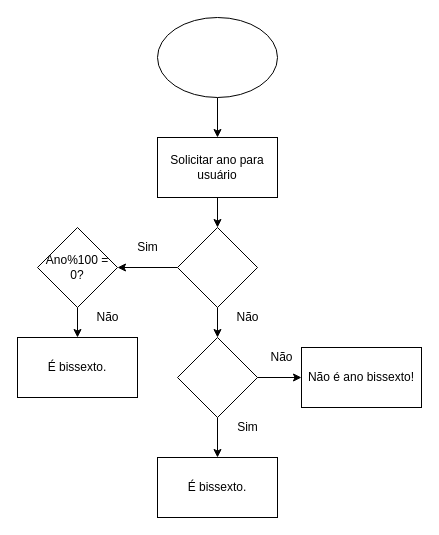
Image size: 439x535. Some labels were removed from this diagram. The shapes that lost their labels are listed below. From the top down, each one's centre as x and y in pixels, then its label:
At point 217,57: "Iniciar programa".
At point 217,267: "Ano%4 = 0?".
At point 217,377: "Ano%400 = 0?".
